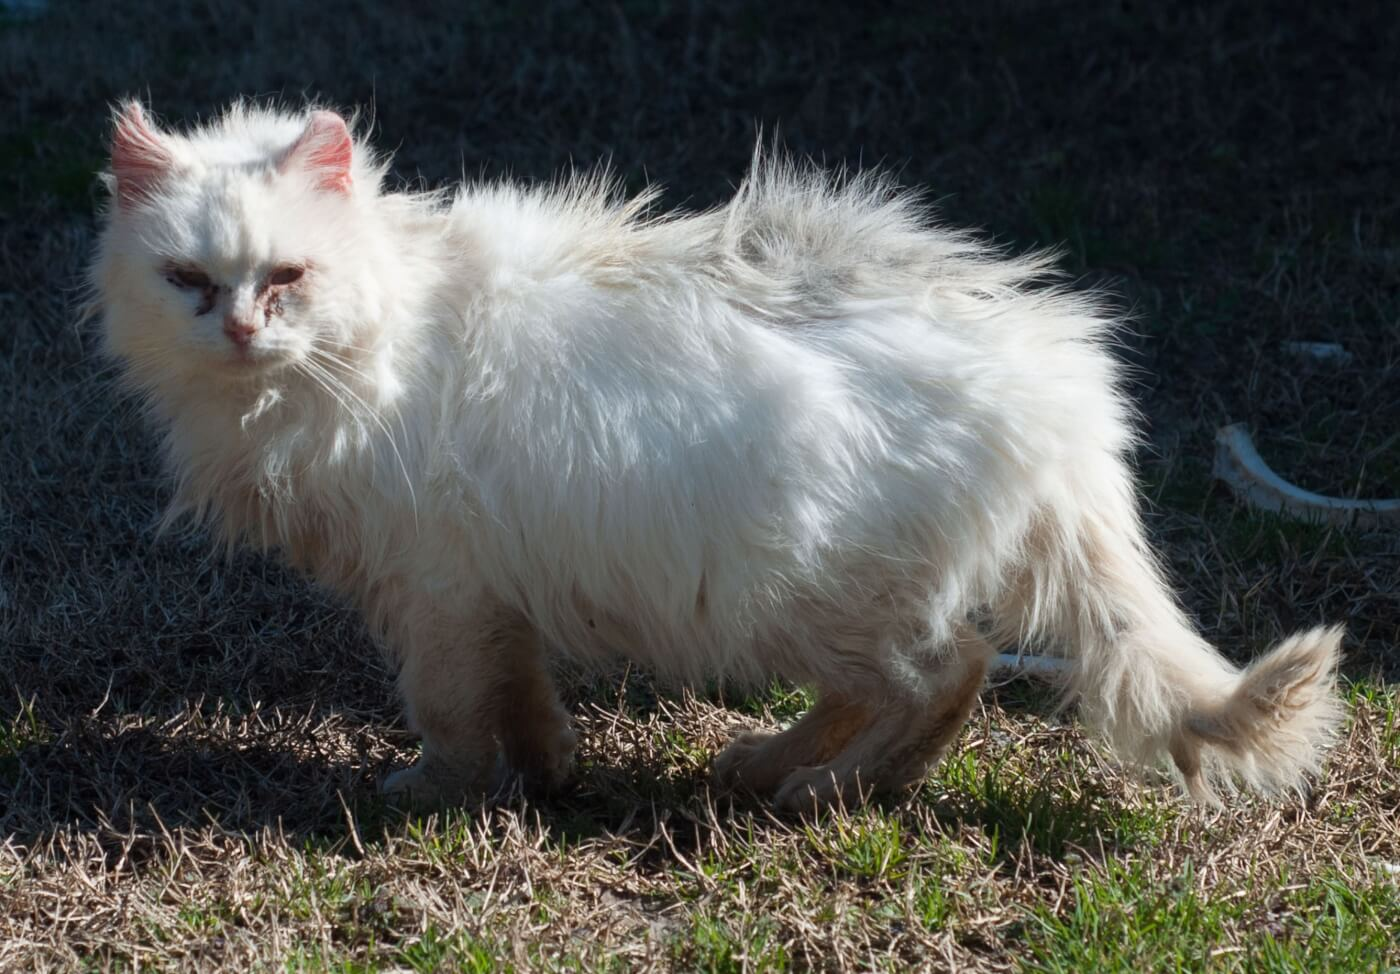Cat: (59, 58, 1359, 868)
